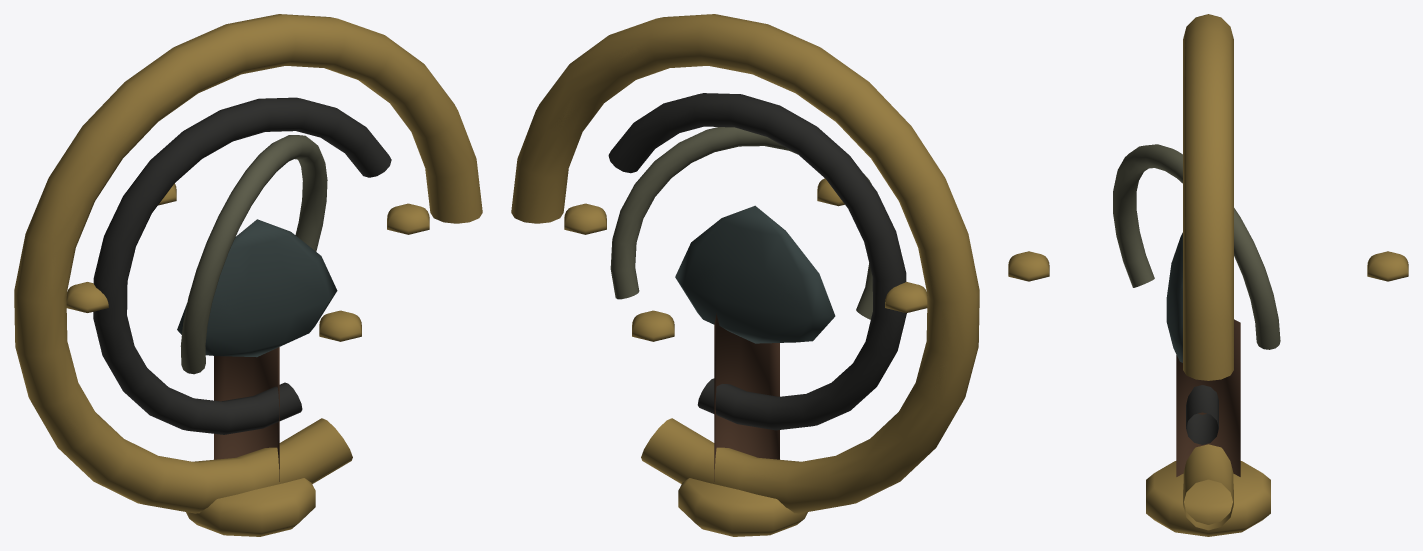
Rendered from town_portal.obj.
3 views of the same model, side by side, from view 1: azimuth 30°, elevation 25°; view 2: azimuth 150°, elevation 25°; view 3: azimuth 270°, elevation 25° (orthographic). The views are drawn at different scales.
Parts seen in each view (by area): view 1: A_OuterRing.001_ritual_gold, A_InnerRing.001_wrought_iron, A_SuspendedCore.001_smoked_glass, A_InnerRing2.001_oxidized_bronze, A_Pommel.001_ritual_gold, A_Grip.001_dark_wood, A_Stud_0.001_ritual_gold, A_Stud_1.001_ritual_gold, A_Stud_2.001_ritual_gold; view 2: A_OuterRing.001_ritual_gold, A_InnerRing.001_wrought_iron, A_SuspendedCore.001_smoked_glass, A_InnerRing2.001_oxidized_bronze, A_Grip.001_dark_wood, A_Pommel.001_ritual_gold, A_Stud_0.001_ritual_gold, A_Stud_3.001_ritual_gold, A_Stud_2.001_ritual_gold; view 3: A_OuterRing.001_ritual_gold, A_InnerRing2.001_oxidized_bronze, A_Pommel.001_ritual_gold, A_Grip.001_dark_wood, A_InnerRing.001_wrought_iron, A_SuspendedCore.001_smoked_glass, A_Stud_1.001_ritual_gold, A_Stud_3.001_ritual_gold.
Boxes of the visible parts, bbox=[...] form: A_OuterRing.001_ritual_gold: bbox=[14, 14, 482, 513]; A_InnerRing.001_wrought_iron: bbox=[93, 97, 391, 434]; A_SuspendedCore.001_smoked_glass: bbox=[177, 219, 337, 357]; A_InnerRing2.001_oxidized_bronze: bbox=[180, 135, 327, 374]; A_Pommel.001_ritual_gold: bbox=[186, 478, 315, 536]; A_Grip.001_dark_wood: bbox=[214, 347, 279, 481]; A_Stud_0.001_ritual_gold: bbox=[387, 203, 429, 234]; A_Stud_1.001_ritual_gold: bbox=[319, 310, 361, 341]; A_Stud_2.001_ritual_gold: bbox=[66, 282, 108, 312]; A_OuterRing.001_ritual_gold: bbox=[511, 14, 979, 513]; A_InnerRing.001_wrought_iron: bbox=[608, 93, 906, 430]; A_SuspendedCore.001_smoked_glass: bbox=[675, 205, 835, 343]; A_InnerRing2.001_oxidized_bronze: bbox=[610, 127, 872, 319]; A_Grip.001_dark_wood: bbox=[714, 313, 779, 481]; A_Pommel.001_ritual_gold: bbox=[678, 478, 807, 536]; A_Stud_0.001_ritual_gold: bbox=[564, 203, 606, 234]; A_Stud_3.001_ritual_gold: bbox=[632, 310, 674, 341]; A_Stud_2.001_ritual_gold: bbox=[885, 282, 927, 312]; A_OuterRing.001_ritual_gold: bbox=[1183, 14, 1233, 530]; A_InnerRing2.001_oxidized_bronze: bbox=[1113, 144, 1280, 349]; A_Pommel.001_ritual_gold: bbox=[1146, 461, 1270, 536]; A_Grip.001_dark_wood: bbox=[1176, 319, 1240, 476]; A_InnerRing.001_wrought_iron: bbox=[1186, 385, 1218, 444]; A_SuspendedCore.001_smoked_glass: bbox=[1166, 232, 1182, 362]; A_Stud_1.001_ritual_gold: bbox=[1008, 251, 1049, 281]; A_Stud_3.001_ritual_gold: bbox=[1367, 251, 1408, 281].
Size of the model in its own units: 1.73 by 1.75 by 1.34.
